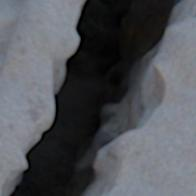broken_brick: (106, 7, 195, 195), (0, 0, 80, 192)
crack: (0, 0, 195, 195)
